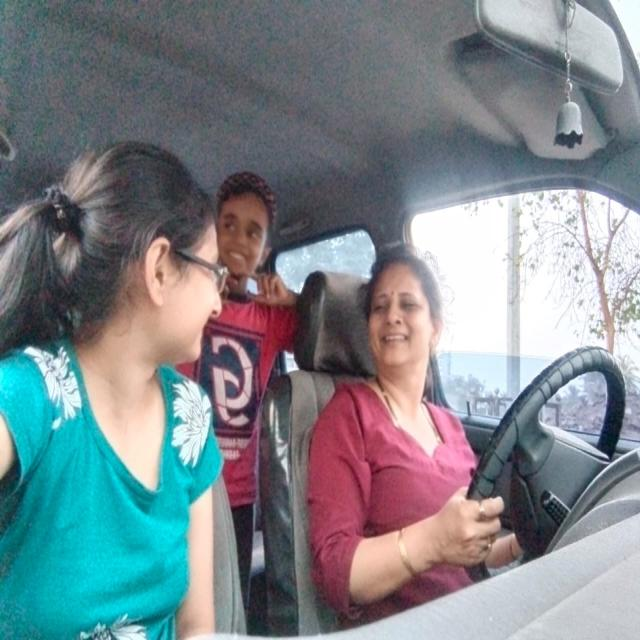LeftRight: (131, 151, 224, 369), (362, 255, 442, 381)
person: (226, 170, 273, 280)
talking: (377, 328, 411, 347)
